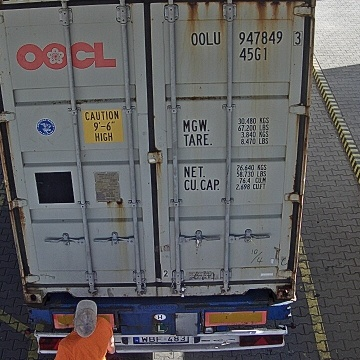serial_id: (191, 30, 303, 45)
